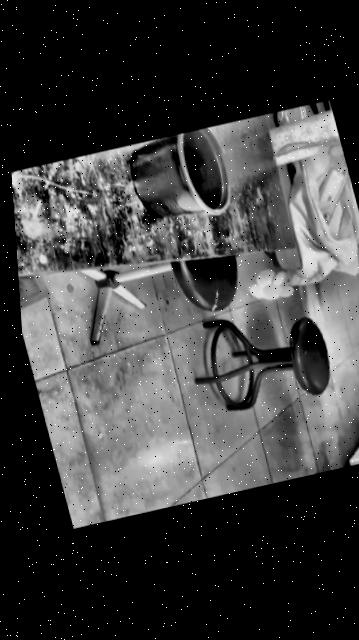pot: (122, 126, 237, 229)
